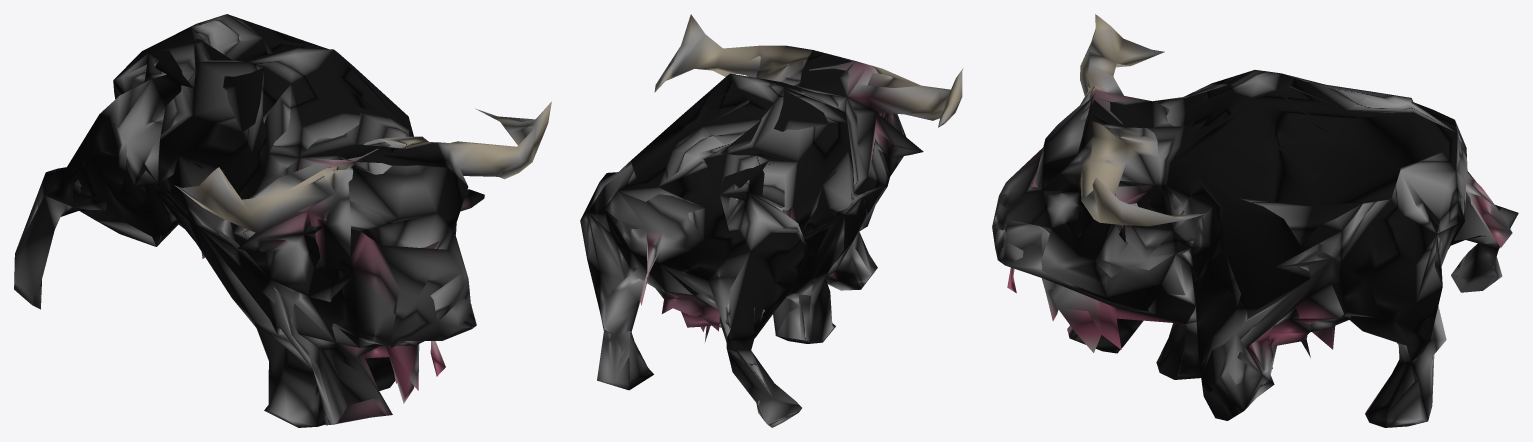
Rendered from gen3d-angry-bull-lod0.glb.
The picture shows the model from 3 angles, left to right: view 1: azimuth 30°, elevation 25°; view 2: azimuth 150°, elevation 25°; view 3: azimuth 270°, elevation 25°; orthographic projection. The views are drawn at different scales.
Visible parts, largest first — view 1: part_0; view 2: part_0; view 3: part_0.
Part boxes in pixels (x1,y1,x2,y2): part_0: (14,14,551,427); part_0: (580,14,963,427); part_0: (992,14,1518,427).
Size of the model in its own units: 1.05 by 0.9778 by 1.53.
